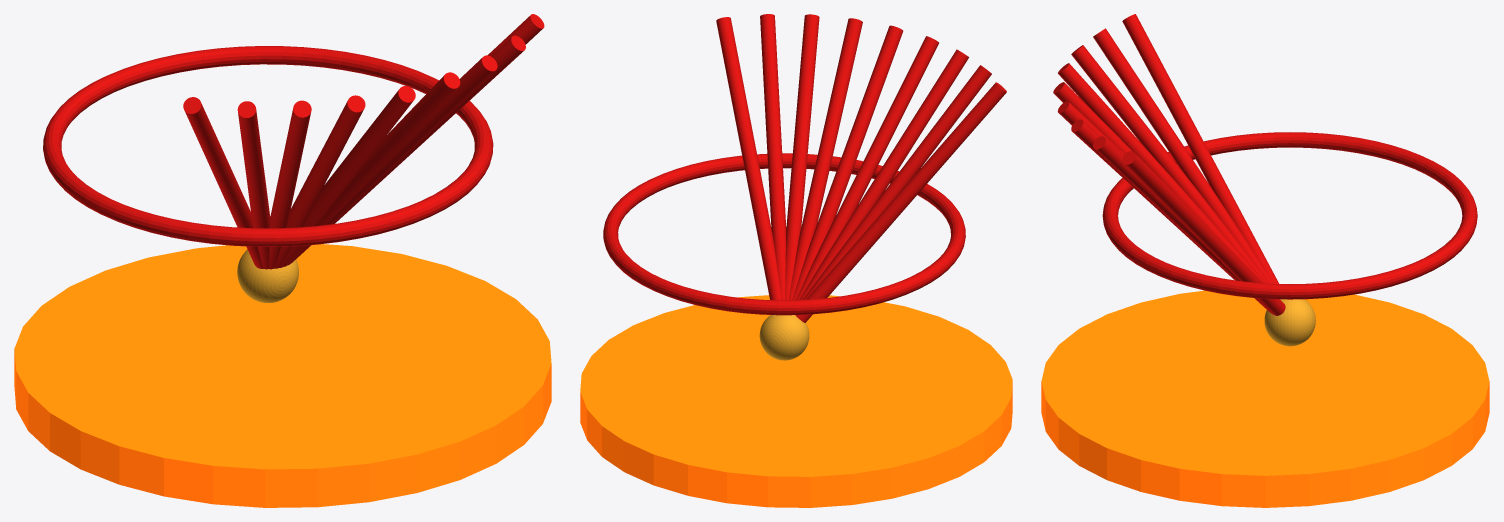
Rendered from spanish_hand_fan.dae.
The picture shows the model from 3 angles, left to right: view 1: azimuth 30°, elevation 25°; view 2: azimuth 150°, elevation 25°; view 3: azimuth 270°, elevation 25°; orthographic projection. The views are drawn at different scales.
Parts seen in each view (by area): view 1: 11_06_Popular_Spanish_Hand_Fan_ROOT_base, 11_06_Popular_Spanish_Hand_Fan_part_11, 11_06_Popular_Spanish_Hand_Fan_part_07, 11_06_Popular_Spanish_Hand_Fan_part_06, 11_06_Popular_Spanish_Hand_Fan_part_05, 11_06_Popular_Spanish_Hand_Fan_part_02, 11_06_Popular_Spanish_Hand_Fan_part_04, 11_06_Popular_Spanish_Hand_Fan_part_03, 11_06_Popular_Spanish_Hand_Fan_part_08, 11_06_Popular_Spanish_Hand_Fan_part_01, 11_06_Popular_Spanish_Hand_Fan_part_09, 11_06_Popular_Spanish_Hand_Fan_part_10; view 2: 11_06_Popular_Spanish_Hand_Fan_ROOT_base, 11_06_Popular_Spanish_Hand_Fan_part_11, 11_06_Popular_Spanish_Hand_Fan_part_02, 11_06_Popular_Spanish_Hand_Fan_part_10, 11_06_Popular_Spanish_Hand_Fan_part_07, 11_06_Popular_Spanish_Hand_Fan_part_08, 11_06_Popular_Spanish_Hand_Fan_part_09, 11_06_Popular_Spanish_Hand_Fan_part_06, 11_06_Popular_Spanish_Hand_Fan_part_05, 11_06_Popular_Spanish_Hand_Fan_part_04, 11_06_Popular_Spanish_Hand_Fan_part_03, 11_06_Popular_Spanish_Hand_Fan_part_01; view 3: 11_06_Popular_Spanish_Hand_Fan_ROOT_base, 11_06_Popular_Spanish_Hand_Fan_part_11, 11_06_Popular_Spanish_Hand_Fan_part_02, 11_06_Popular_Spanish_Hand_Fan_part_03, 11_06_Popular_Spanish_Hand_Fan_part_04, 11_06_Popular_Spanish_Hand_Fan_part_10, 11_06_Popular_Spanish_Hand_Fan_part_05, 11_06_Popular_Spanish_Hand_Fan_part_01, 11_06_Popular_Spanish_Hand_Fan_part_09, 11_06_Popular_Spanish_Hand_Fan_part_06, 11_06_Popular_Spanish_Hand_Fan_part_08, 11_06_Popular_Spanish_Hand_Fan_part_07.
Part boxes in pixels (box(x1,y1,x2,y2)): 11_06_Popular_Spanish_Hand_Fan_ROOT_base: box(14, 244, 551, 507); 11_06_Popular_Spanish_Hand_Fan_part_11: box(43, 46, 493, 246); 11_06_Popular_Spanish_Hand_Fan_part_07: box(284, 72, 460, 266); 11_06_Popular_Spanish_Hand_Fan_part_06: box(279, 86, 415, 267); 11_06_Popular_Spanish_Hand_Fan_part_05: box(274, 95, 365, 268); 11_06_Popular_Spanish_Hand_Fan_part_02: box(183, 97, 263, 268); 11_06_Popular_Spanish_Hand_Fan_part_04: box(269, 100, 311, 269); 11_06_Popular_Spanish_Hand_Fan_part_03: box(237, 101, 270, 269); 11_06_Popular_Spanish_Hand_Fan_part_08: box(288, 55, 497, 265); 11_06_Popular_Spanish_Hand_Fan_part_01: box(237, 249, 298, 302); 11_06_Popular_Spanish_Hand_Fan_part_09: box(291, 35, 525, 263); 11_06_Popular_Spanish_Hand_Fan_part_10: box(487, 14, 544, 56); 11_06_Popular_Spanish_Hand_Fan_ROOT_base: box(580, 295, 1012, 507); 11_06_Popular_Spanish_Hand_Fan_part_11: box(603, 153, 965, 315); 11_06_Popular_Spanish_Hand_Fan_part_02: box(795, 82, 1006, 322); 11_06_Popular_Spanish_Hand_Fan_part_10: box(716, 17, 781, 300); 11_06_Popular_Spanish_Hand_Fan_part_07: box(788, 18, 862, 300); 11_06_Popular_Spanish_Hand_Fan_part_08: box(785, 14, 819, 300); 11_06_Popular_Spanish_Hand_Fan_part_09: box(760, 14, 786, 300); 11_06_Popular_Spanish_Hand_Fan_part_06: box(792, 25, 903, 300); 11_06_Popular_Spanish_Hand_Fan_part_05: box(796, 36, 938, 300); 11_06_Popular_Spanish_Hand_Fan_part_04: box(799, 49, 968, 299); 11_06_Popular_Spanish_Hand_Fan_part_03: box(803, 65, 991, 299); 11_06_Popular_Spanish_Hand_Fan_part_01: box(759, 315, 809, 360); 11_06_Popular_Spanish_Hand_Fan_ROOT_base: box(1041, 290, 1489, 507); 11_06_Popular_Spanish_Hand_Fan_part_11: box(1102, 132, 1477, 299); 11_06_Popular_Spanish_Hand_Fan_part_02: box(1122, 14, 1278, 283); 11_06_Popular_Spanish_Hand_Fan_part_03: box(1093, 28, 1273, 283); 11_06_Popular_Spanish_Hand_Fan_part_04: box(1071, 45, 1269, 283); 11_06_Popular_Spanish_Hand_Fan_part_10: box(1122, 151, 1285, 315); 11_06_Popular_Spanish_Hand_Fan_part_05: box(1058, 63, 1266, 283); 11_06_Popular_Spanish_Hand_Fan_part_01: box(1264, 299, 1315, 346); 11_06_Popular_Spanish_Hand_Fan_part_09: box(1093, 136, 1272, 314); 11_06_Popular_Spanish_Hand_Fan_part_06: box(1053, 82, 1132, 153); 11_06_Popular_Spanish_Hand_Fan_part_08: box(1071, 119, 1268, 311); 11_06_Popular_Spanish_Hand_Fan_part_07: box(1057, 101, 1124, 154).
Size of the model in its own units: 0.76 by 0.618 by 0.76.
